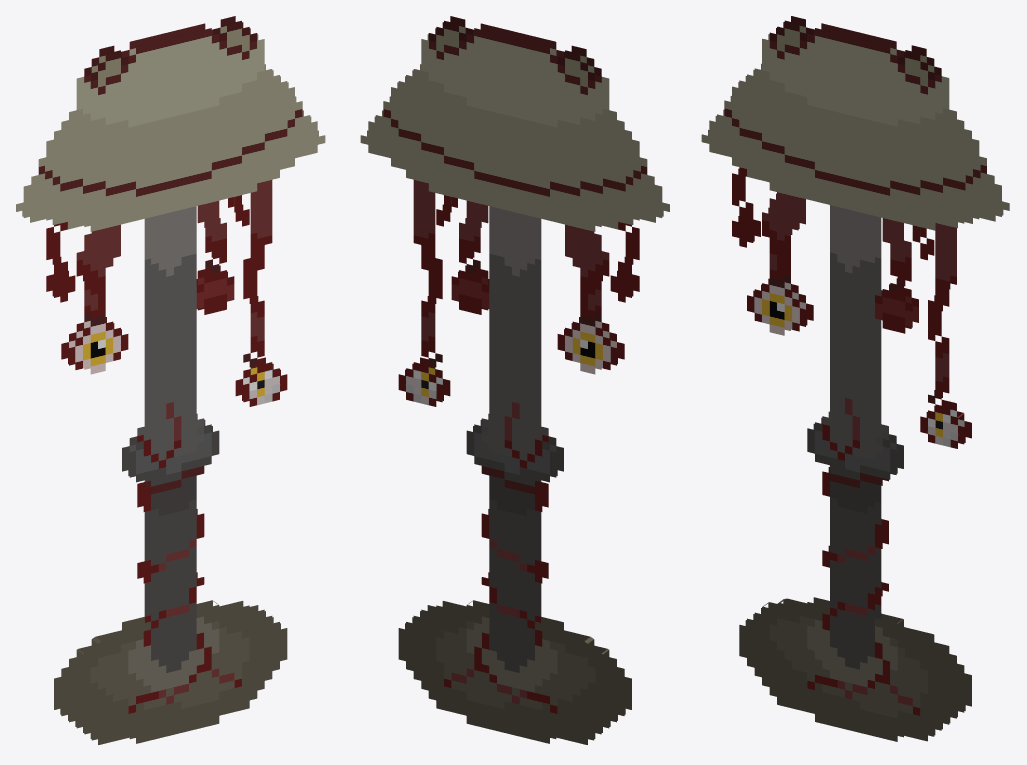
The model's file is abajur_pixel.fbx.
The picture shows the model from 3 angles, left to right: view 1: azimuth 30°, elevation 25°; view 2: azimuth 150°, elevation 25°; view 3: azimuth 330°, elevation 25°; orthographic projection.
Parts seen in each view (by area): view 1: abajur_pixel; view 2: abajur_pixel; view 3: abajur_pixel.
Boxes of the visible parts, box(x1,y1,x2,y2) form: abajur_pixel: box(16, 16, 325, 744); abajur_pixel: box(360, 16, 669, 744); abajur_pixel: box(701, 16, 1009, 741).
Size of the model in its own units: 226 by 491 by 8.09.
